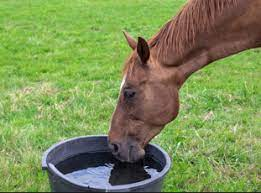Horse: (93, 4, 255, 163)
